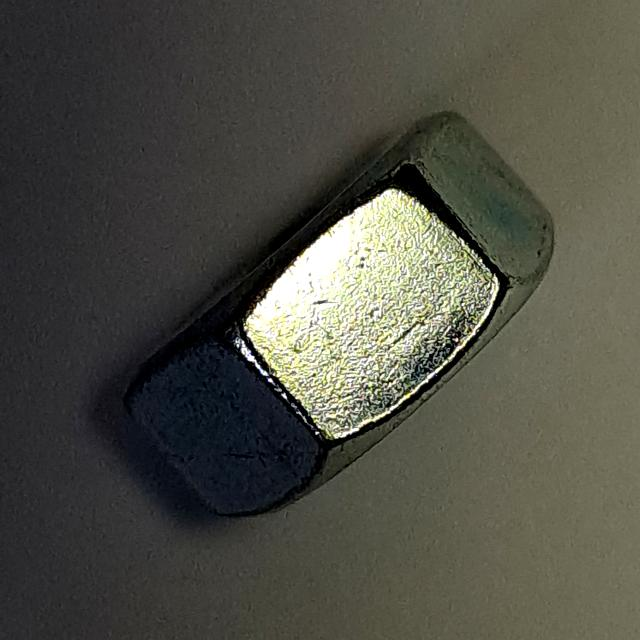Side_Excellent: (100, 100, 570, 531)
